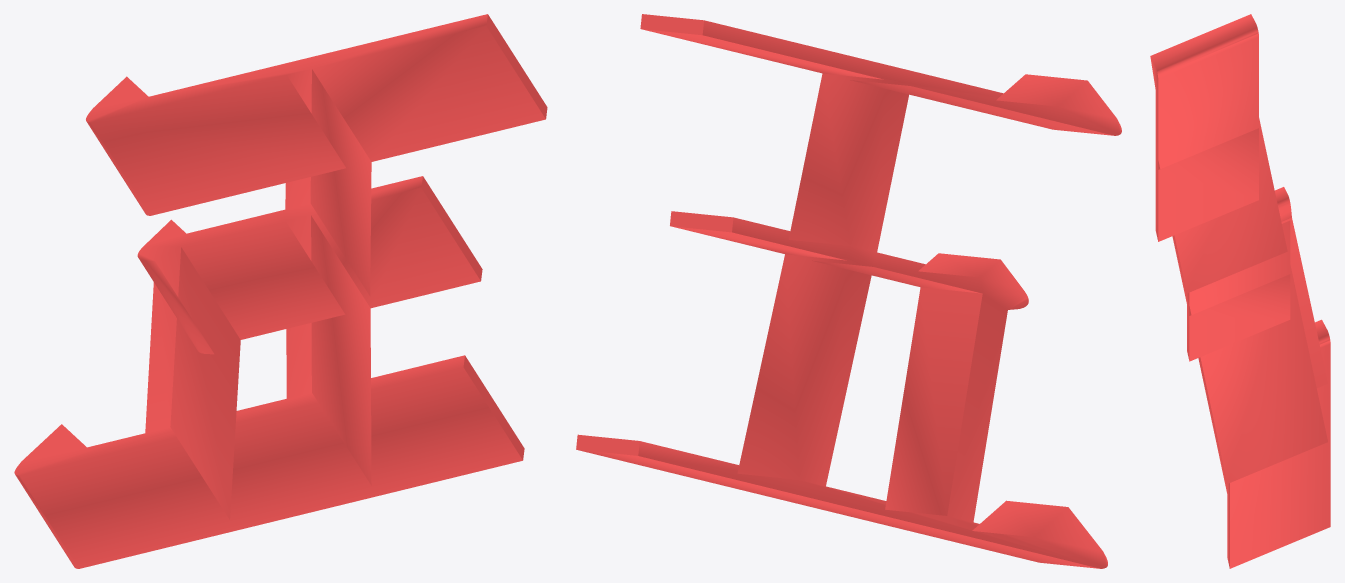
Rendered from ps2_save-icons_gofungonosekai.glb.
3 views of the same model, side by side, from view 1: azimuth 30°, elevation 25°; view 2: azimuth 150°, elevation 25°; view 3: azimuth 270°, elevation 25° (orthographic). The views are drawn at different scales.
Visible parts, largest first — view 1: FMINUTES.ICO; view 2: FMINUTES.ICO; view 3: FMINUTES.ICO.
Part boxes in pixels (x1=…): FMINUTES.ICO: x1=14, y1=14, x2=547, y2=568; FMINUTES.ICO: x1=576, y1=14, x2=1121, y2=568; FMINUTES.ICO: x1=1150, y1=14, x2=1330, y2=568.
Bounding box in the file's own units: 3.83 × 3.81 × 1.57.
1 material, 1 textured.
